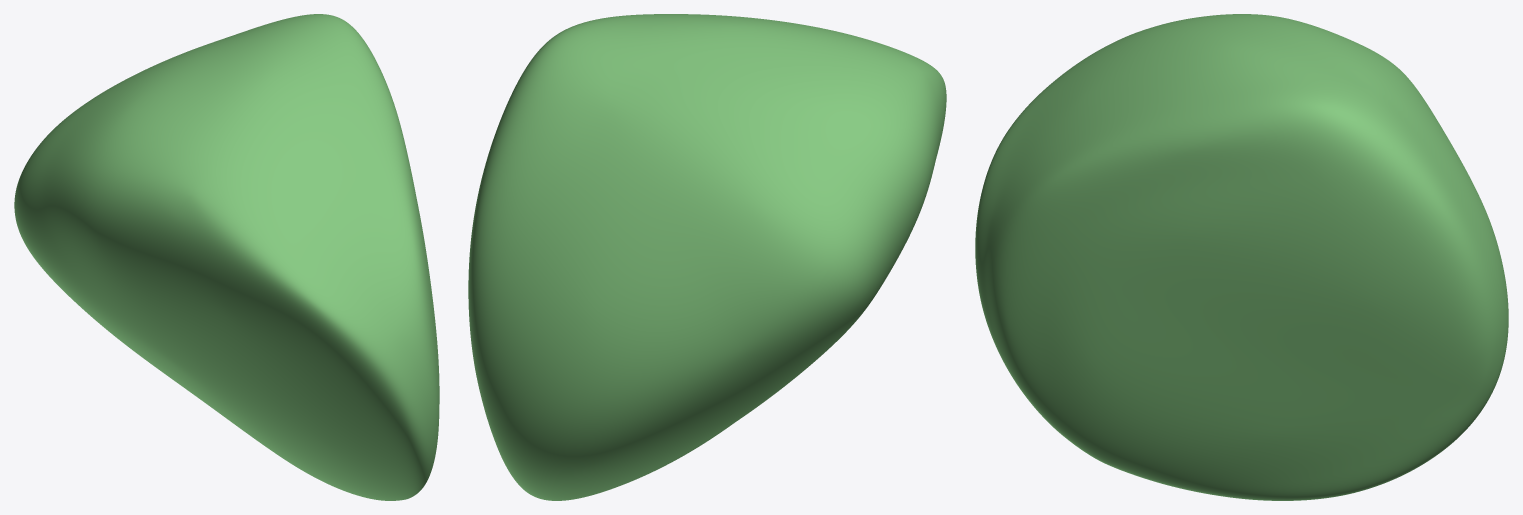
3 views of the same model, side by side, from view 1: azimuth 30°, elevation 25°; view 2: azimuth 150°, elevation 25°; view 3: azimuth 270°, elevation 25° (orthographic). The views are drawn at different scales.
Visible parts, largest first — view 1: GR_CF; view 2: GR_CF; view 3: GR_CF.
Part boxes in pixels (x1,y1,x2,y2): GR_CF: (14,14,439,500); GR_CF: (468,14,946,500); GR_CF: (975,14,1508,500).
Bounding box in the file's own units: 6.8 × 8.43 × 9.8.
